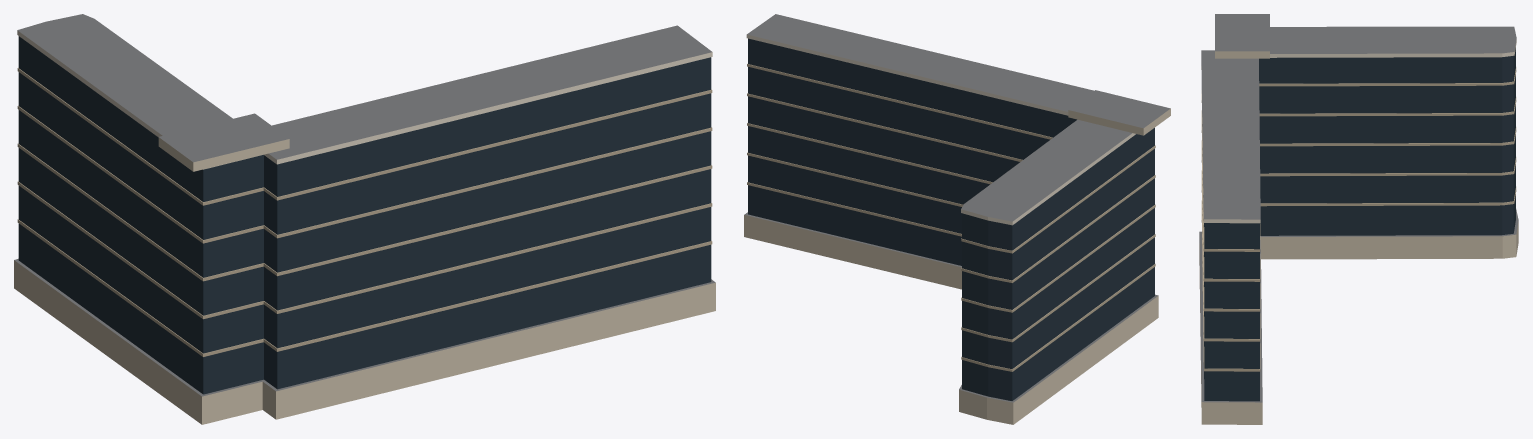
Rendered from bldg_w115766962.glb.
3 views of the same model, side by side, from view 1: azimuth 30°, elevation 25°; view 2: azimuth 150°, elevation 25°; view 3: azimuth 270°, elevation 25° (orthographic). The views are drawn at different scales.
Parts seen in each view (by area): view 1: Bldg_w115766962; view 2: Bldg_w115766962; view 3: Bldg_w115766962.
Boxes of the visible parts, x1,y1,x2,y2 form: Bldg_w115766962: (14, 14, 715, 424); Bldg_w115766962: (744, 14, 1170, 424); Bldg_w115766962: (1199, 14, 1518, 424).
Bounding box in the file's own units: 171 × 85 × 116.
